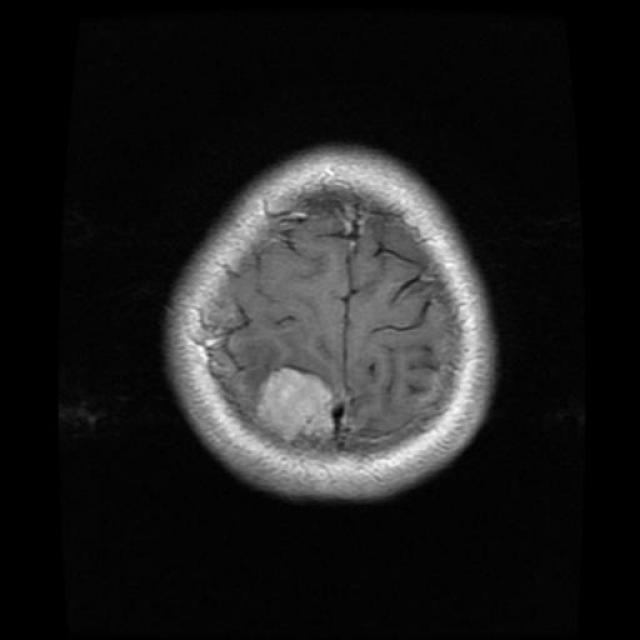Brain-Tumor: (248, 358, 342, 457)
